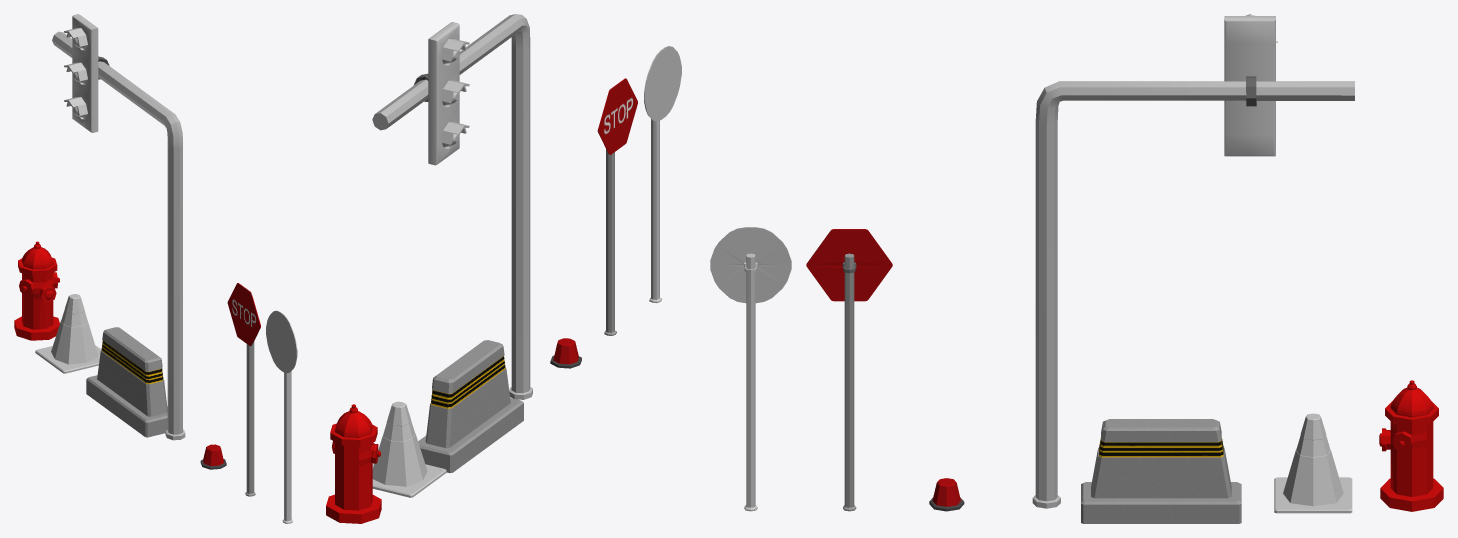
Rendered from barreira_certa.fbx.
3 renders of one model, left to right at view 1: azimuth 30°, elevation 25°; view 2: azimuth 150°, elevation 25°; view 3: azimuth 270°, elevation 25°, orthographic. The views are drawn at different scales.
Visible parts, largest first — view 1: Base, Cube.002, Hidrante, Cube, Cone, Hexagonal, Circular, Sirene; view 2: Base, Cube.002, Hidrante, Cube, Cone, Circular, Hexagonal, Sirene; view 3: Base, Cube.002, Circular, Hexagonal, Cube, Hidrante, Cone, Sirene.
Part boxes in pixels (x1,y1,x2,y2): Base: (52,31,185,440); Cube.002: (86,327,167,437); Hidrante: (14,241,59,340); Cube: (64,14,98,132); Cone: (35,294,101,373); Hexagonal: (227,283,260,496); Circular: (266,310,297,523); Sirene: (200,444,226,469); Base: (372,14,532,399); Cube.002: (418,340,523,472); Hidrante: (326,404,381,523); Cube: (428,22,469,165); Cone: (372,401,446,497); Circular: (644,46,681,302); Hexagonal: (597,78,637,335); Sirene: (550,338,581,368); Base: (1032,41,1354,508); Cube.002: (1081,419,1241,523); Circular: (710,227,791,511); Hexagonal: (806,229,892,511); Cube: (1224,14,1275,156); Hidrante: (1379,380,1443,511); Cone: (1274,413,1352,513); Sirene: (929,478,964,511).
Size of the model in its own units: 233 by 1468 by 2005.
